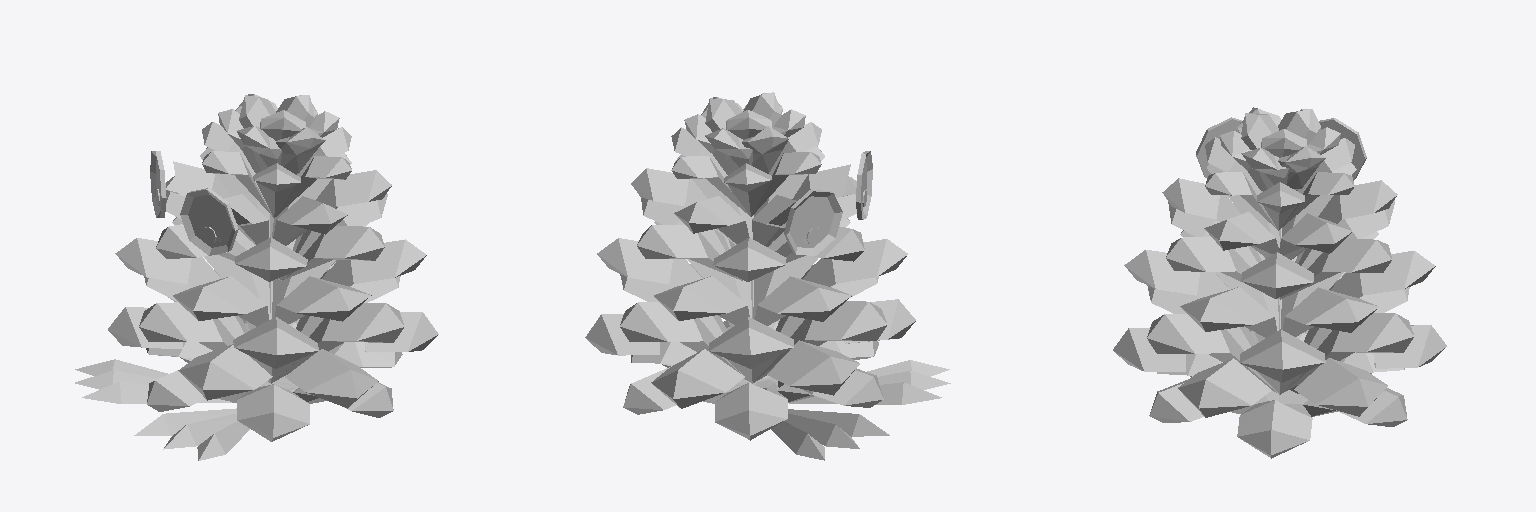
Rendered from pineconeChargingLunge8.obj.
The picture shows the model from 3 angles: view 1: azimuth 30°, elevation 25°; view 2: azimuth 150°, elevation 25°; view 3: azimuth 270°, elevation 25°; orthographic projection.
Visible parts, largest first — view 1: Cube.001_Cube.004; view 2: Cube.001_Cube.004; view 3: Cube.001_Cube.004.
Boxes of the visible parts, <box> form: Cube.001_Cube.004: <box>75,94,438,460</box>; Cube.001_Cube.004: <box>585,92,950,460</box>; Cube.001_Cube.004: <box>1113,107,1446,458</box>.
Bounding box in the file's own units: 28.3 × 27.19 × 27.55.